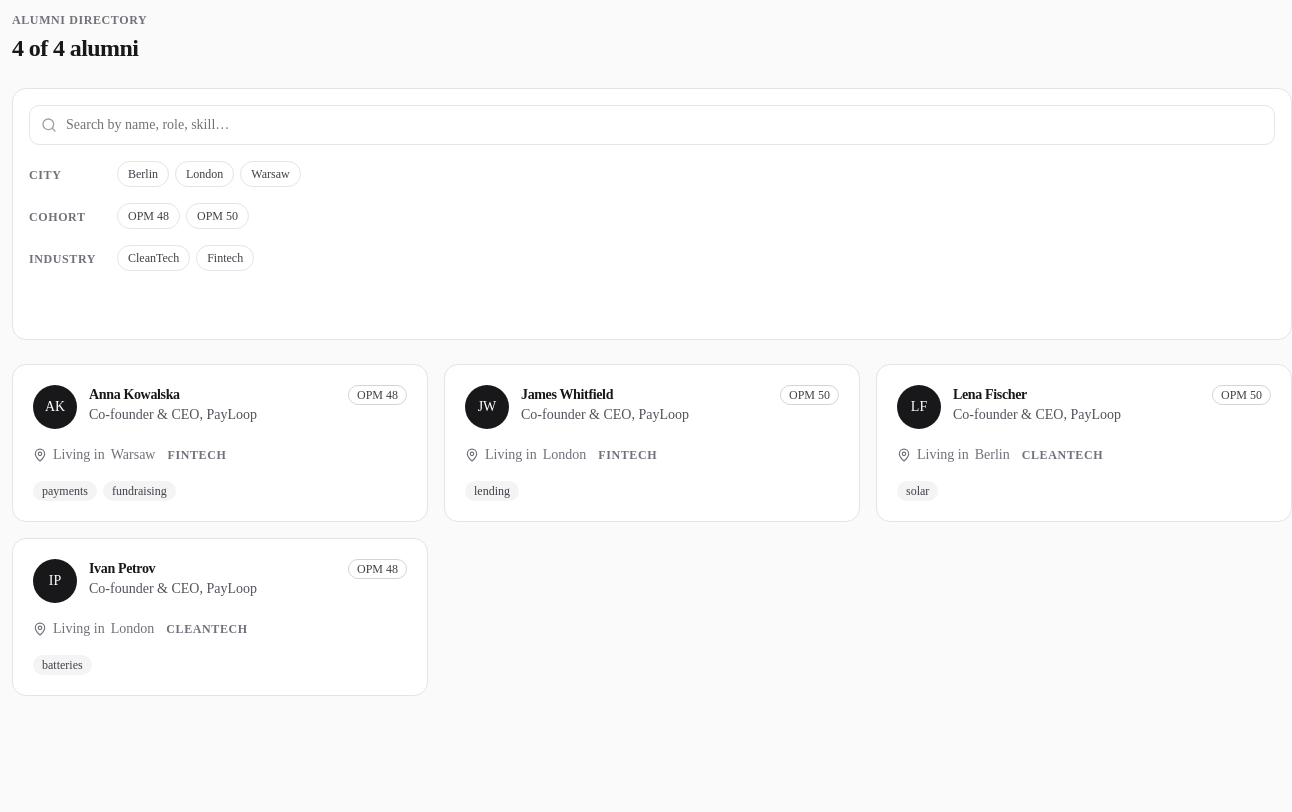
it: Directory › searches across skills and clears back to the full list
The image size is (1292, 812).
Expected: the heading "4 of 4 alumni" is shown, [12,35,138,61]
Type "LENDING" into the field named "Search alumni" at {"x": 652, "y": 125}, box [29,105,1275,145]
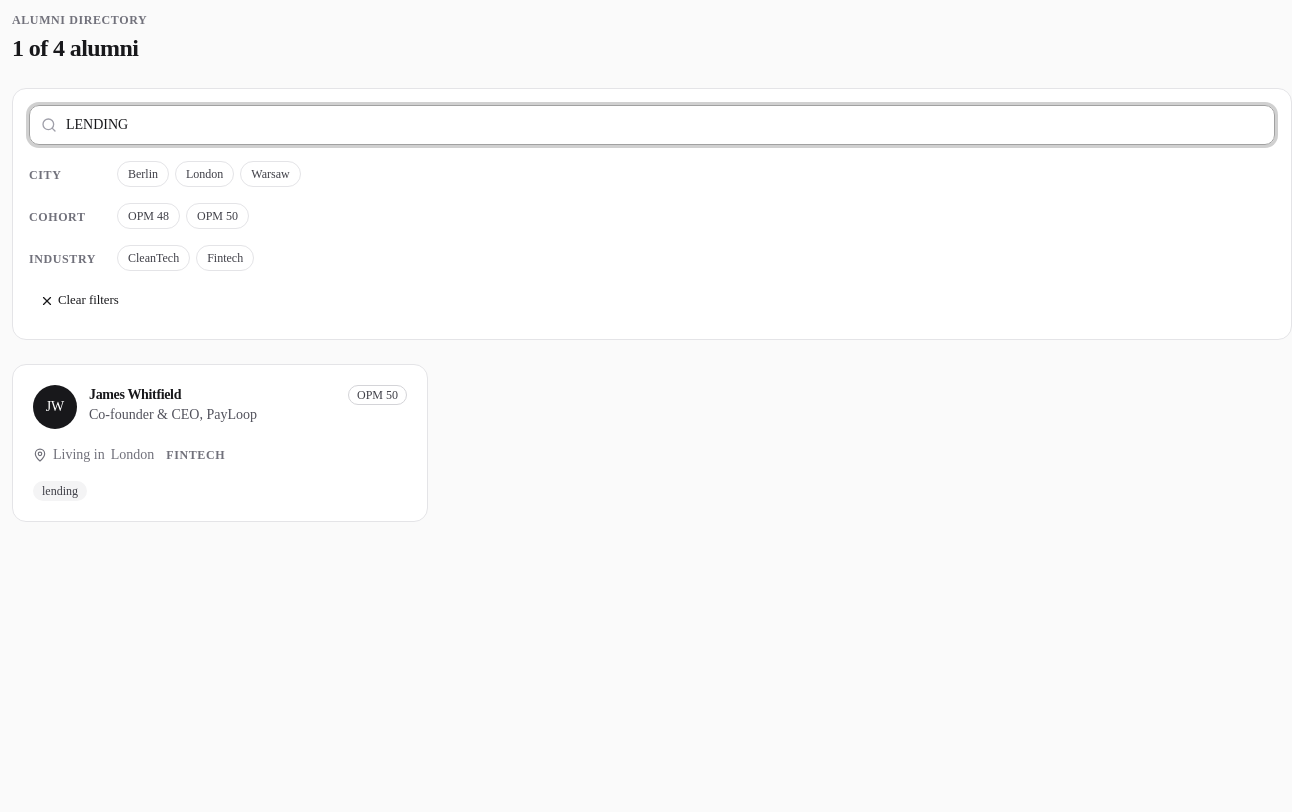
Click the button "Clear filters" at {"x": 79, "y": 301}, box [29,287,130,315]
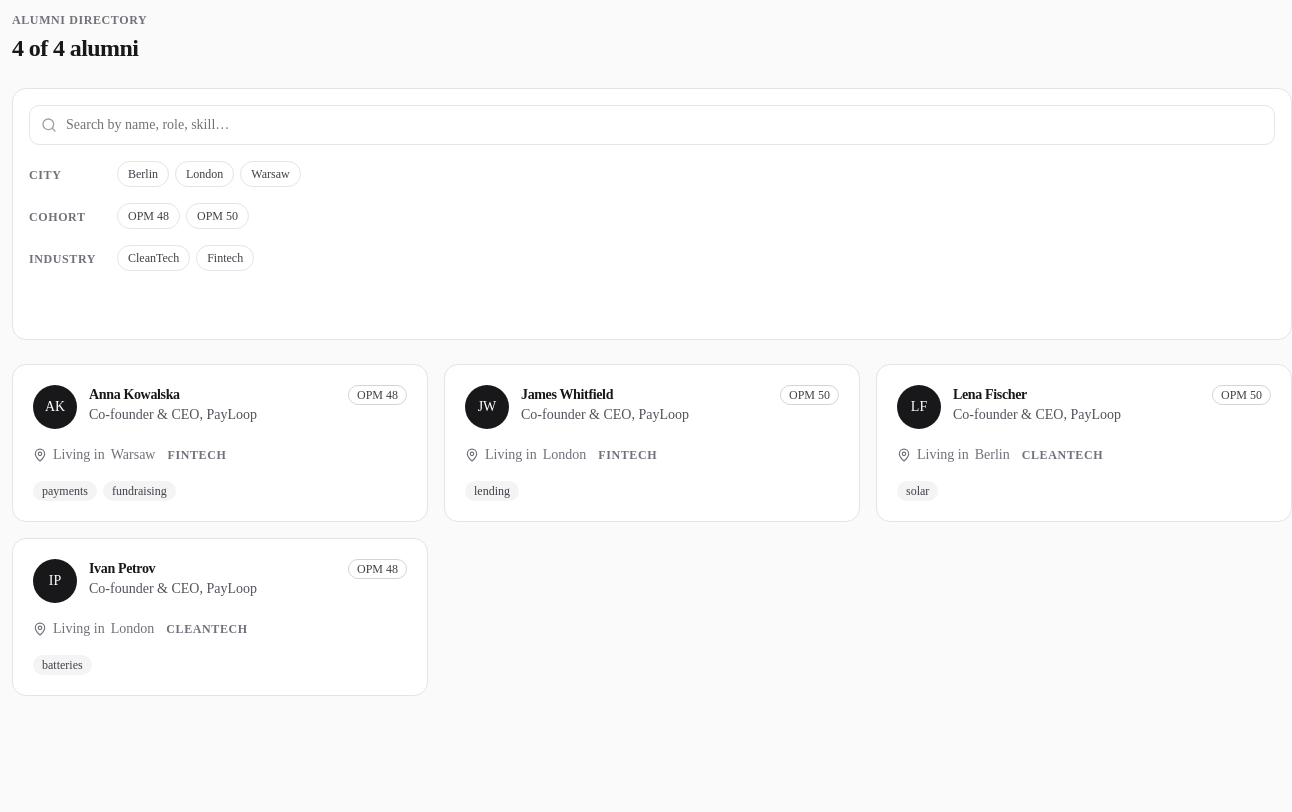
Expected: the field named "Search alumni" is empty, [29,105,1275,145]
